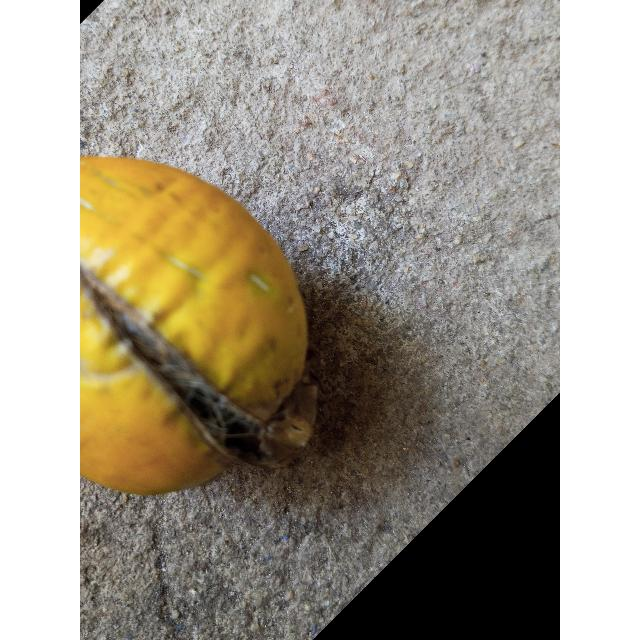damaged: (80, 157, 317, 498)
